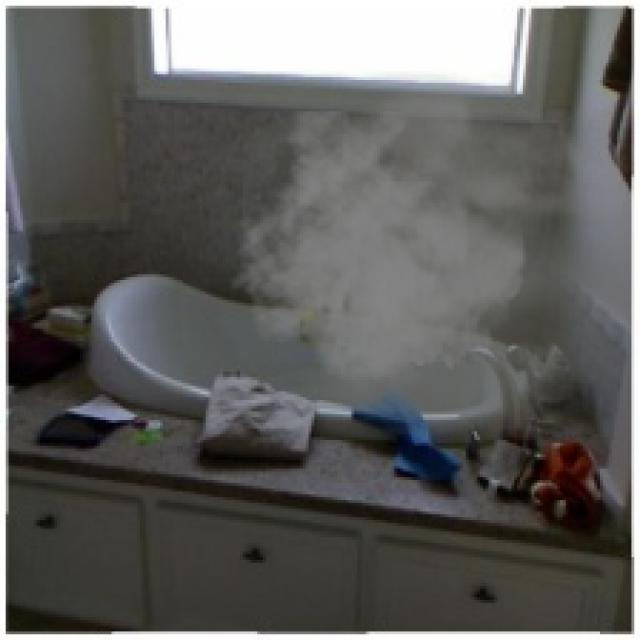Smoke: (228, 71, 632, 440)
